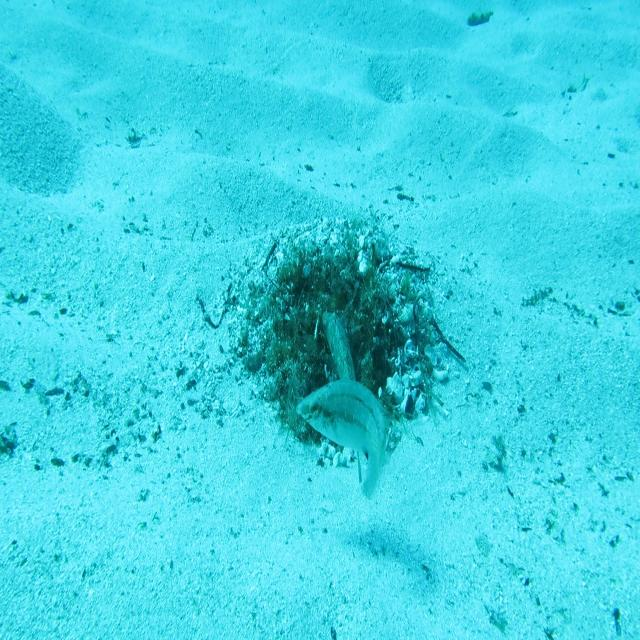FAN: (320, 309, 363, 487)
core_nest: (307, 271, 356, 302)
female: (294, 377, 392, 501)
nest: (223, 202, 455, 474)
vegetation: (465, 8, 492, 25)
